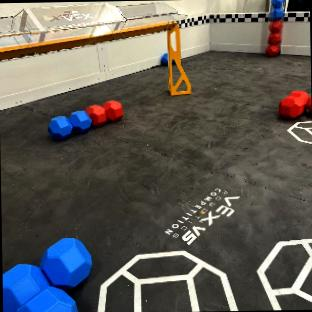V5_BLUE: (2, 237, 91, 312), (48, 110, 91, 140), (161, 52, 168, 64)
V5_RED: (85, 100, 122, 126), (278, 89, 311, 118)
